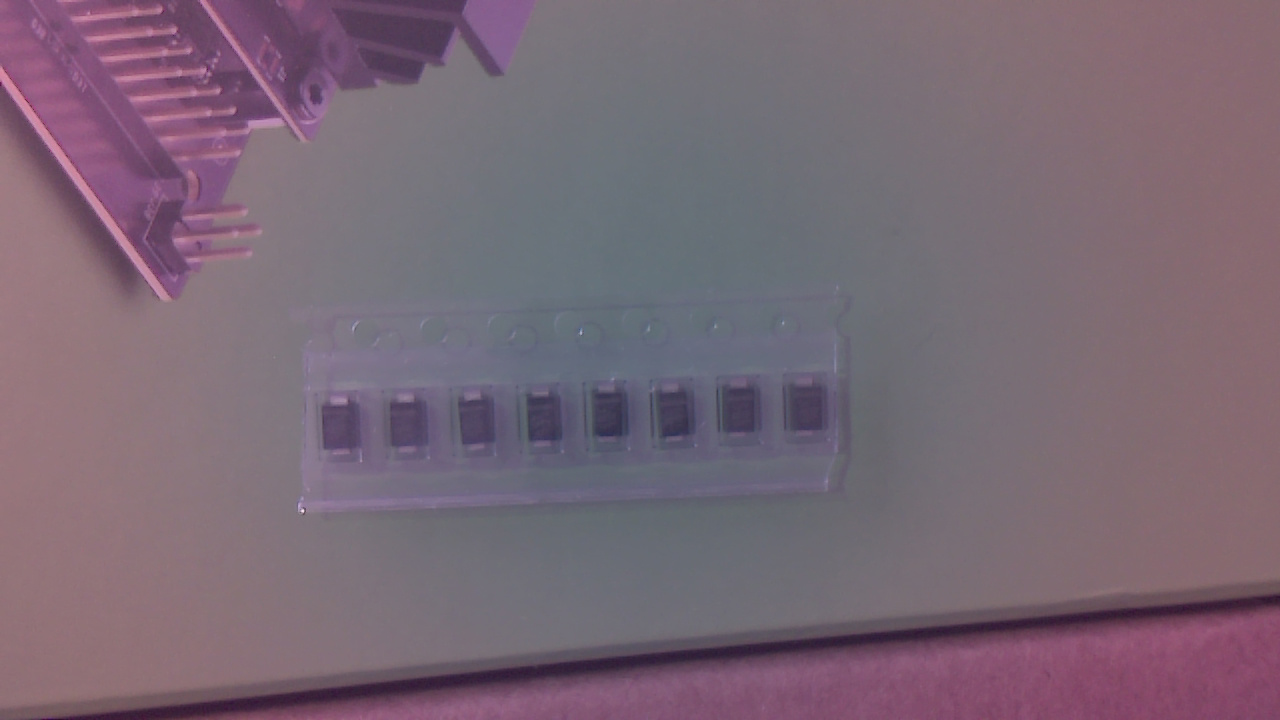Diode: (791, 380, 830, 447), (595, 385, 633, 450), (326, 403, 365, 466), (393, 397, 429, 464), (528, 393, 566, 455), (724, 381, 760, 445), (465, 394, 500, 459), (661, 386, 696, 451)
